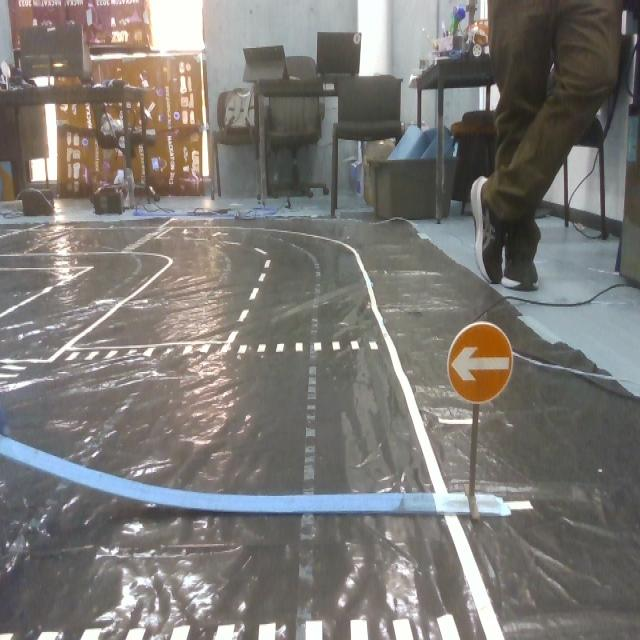forward: (447, 320, 516, 407)
